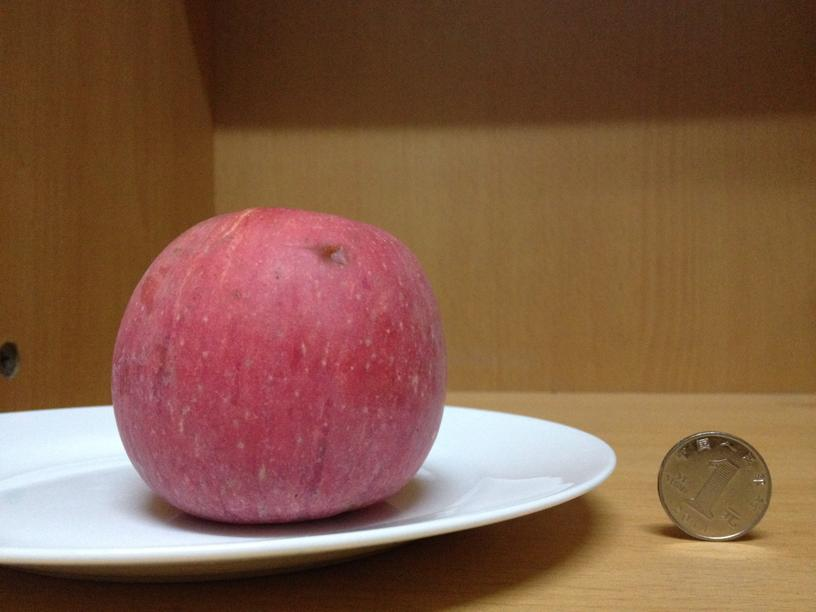apple: (103, 205, 447, 525)
coin: (656, 429, 773, 542)
